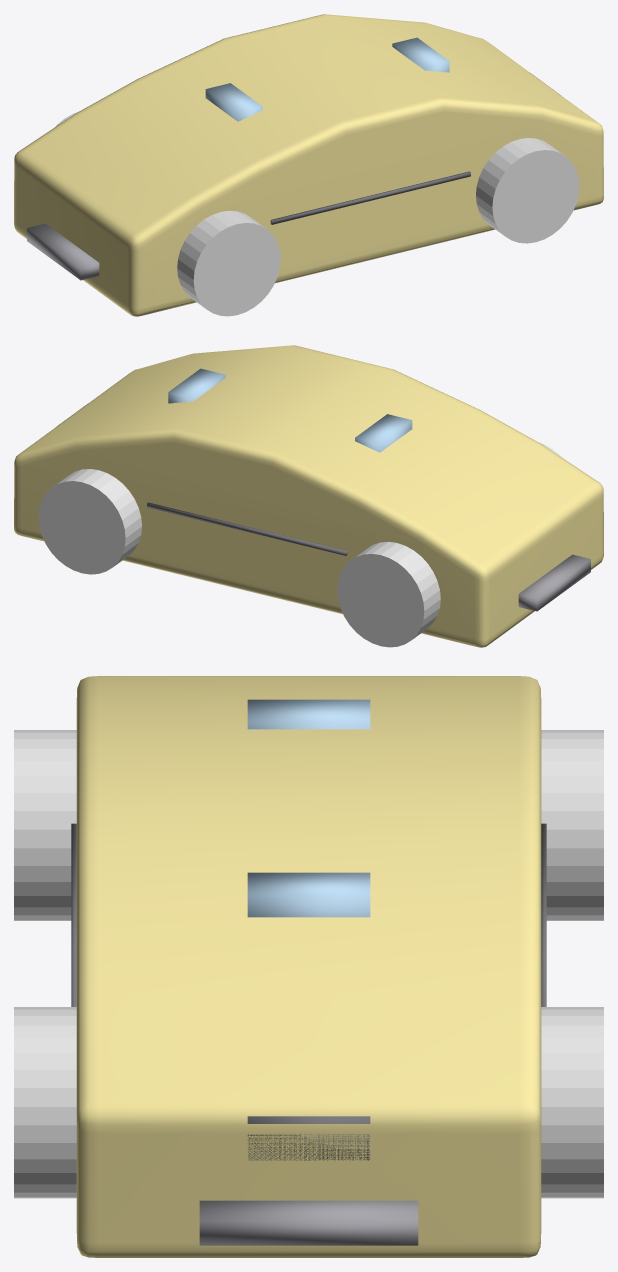
Rendered from car_sedan_lemon.glb.
3 views of the same model, one above another, from view 1: azimuth 30°, elevation 25°; view 2: azimuth 150°, elevation 25°; view 3: azimuth 270°, elevation 25° (orthographic). The views are drawn at different scales.
Parts seen in each view (by area): view 1: body, well_rear_r, well_front_r, bumper_rear, window_front, trim_right, window_rear; view 2: body, well_rear_l, well_front_l, bumper_rear, window_front, trim_left, window_rear; view 3: body, well_front_l, well_front_r, well_rear_l, well_rear_r, bumper_front, window_rear, window_front, grill, trim_left, trim_right.
Boxes of the visible parts, x1,y1,x2,y2 form: body: (14,14,603,316); well_rear_r: (177,210,280,316); well_front_r: (476,138,579,243); bumper_rear: (27,223,99,280); window_front: (205,83,262,121); trim_right: (270,171,470,224); window_rear: (392,37,449,72); body: (14,345,603,647); well_rear_l: (337,541,440,647); well_front_l: (38,469,141,574); bumper_rear: (518,554,590,611); window_front: (355,414,412,452); trim_left: (147,502,347,555); window_rear: (168,368,225,403); body: (76,676,541,1257); well_front_l: (541,1007,603,1198); well_front_r: (14,1007,76,1198); well_rear_l: (541,730,603,920); well_rear_r: (14,730,76,920); bumper_front: (199,1200,418,1245); window_rear: (247,872,370,917); window_front: (247,699,370,729); grill: (247,1116,370,1160); trim_left: (541,823,546,1006); trim_right: (71,823,76,1006).
Bounding box in the file's own units: 4.13 × 1.13 × 2.16.
